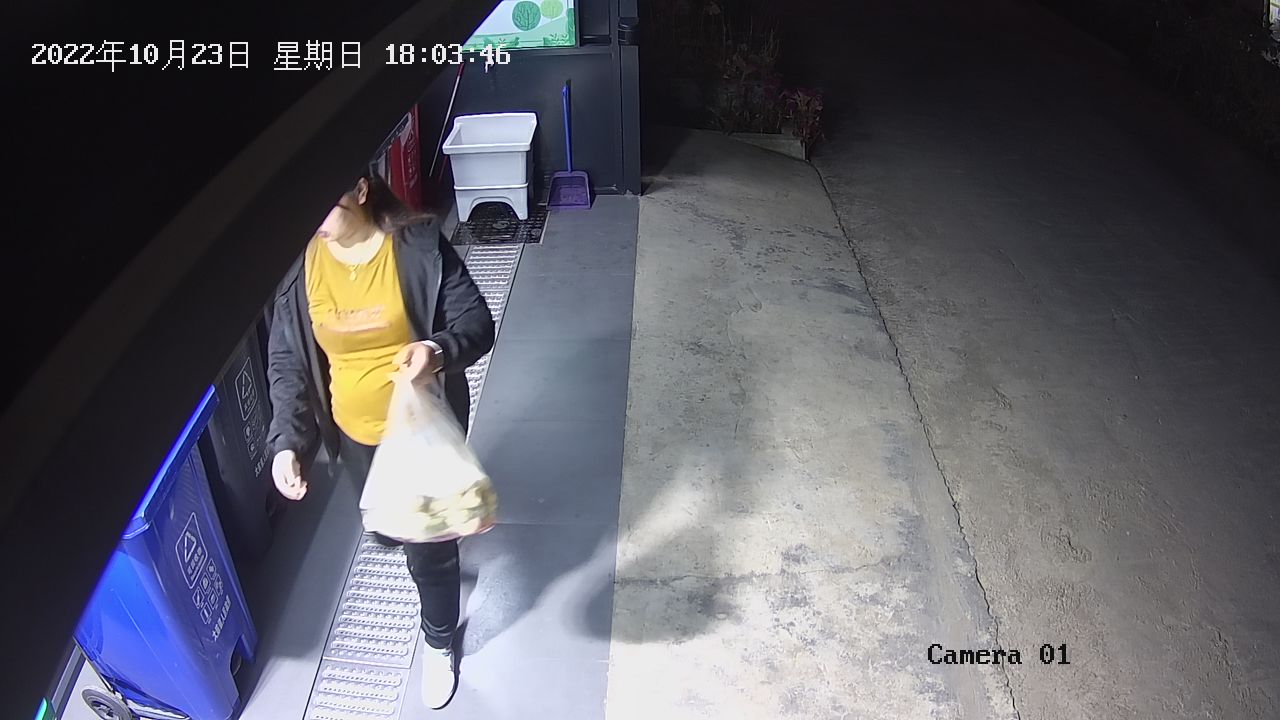garbage-bag: (356, 362, 503, 544)
person: (265, 164, 496, 713)
